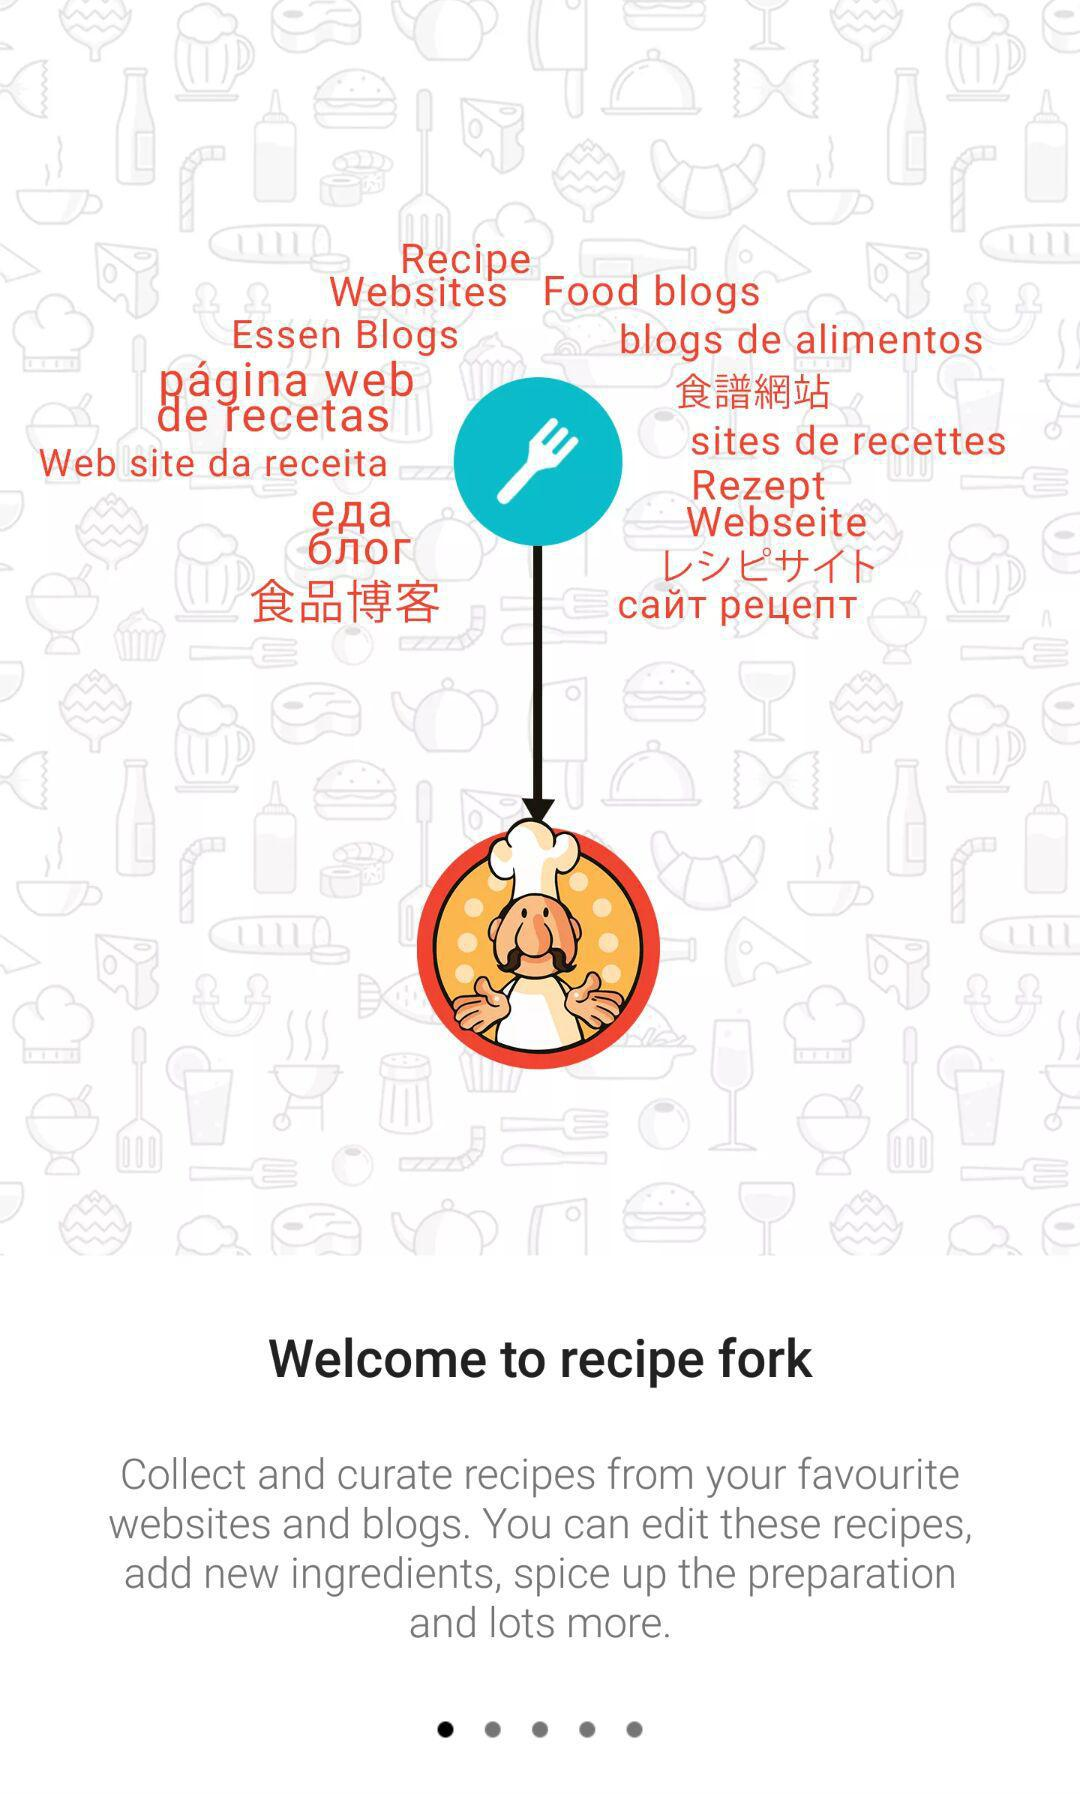Image: (1, 1, 1080, 1258)
PageIndicator: (436, 1718, 644, 1740)
Text: (108, 1454, 972, 1643), (269, 1335, 814, 1390)
